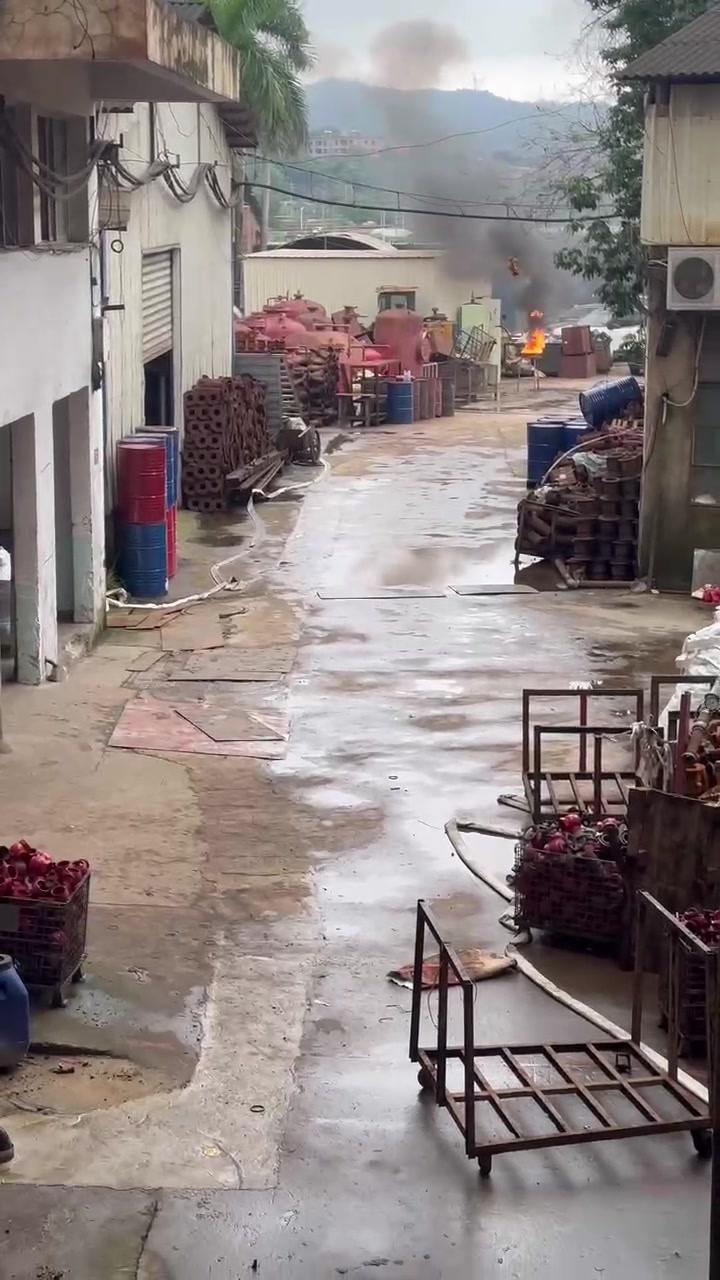fire: (520, 327, 544, 351)
